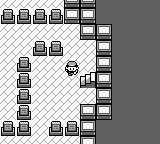main: (65, 61, 79, 76)
no-caminable: (95, 0, 159, 143), (64, 1, 112, 143), (0, 57, 33, 136), (0, 8, 64, 24), (48, 120, 80, 136), (32, 41, 64, 56)
puerta: (80, 72, 96, 87)
